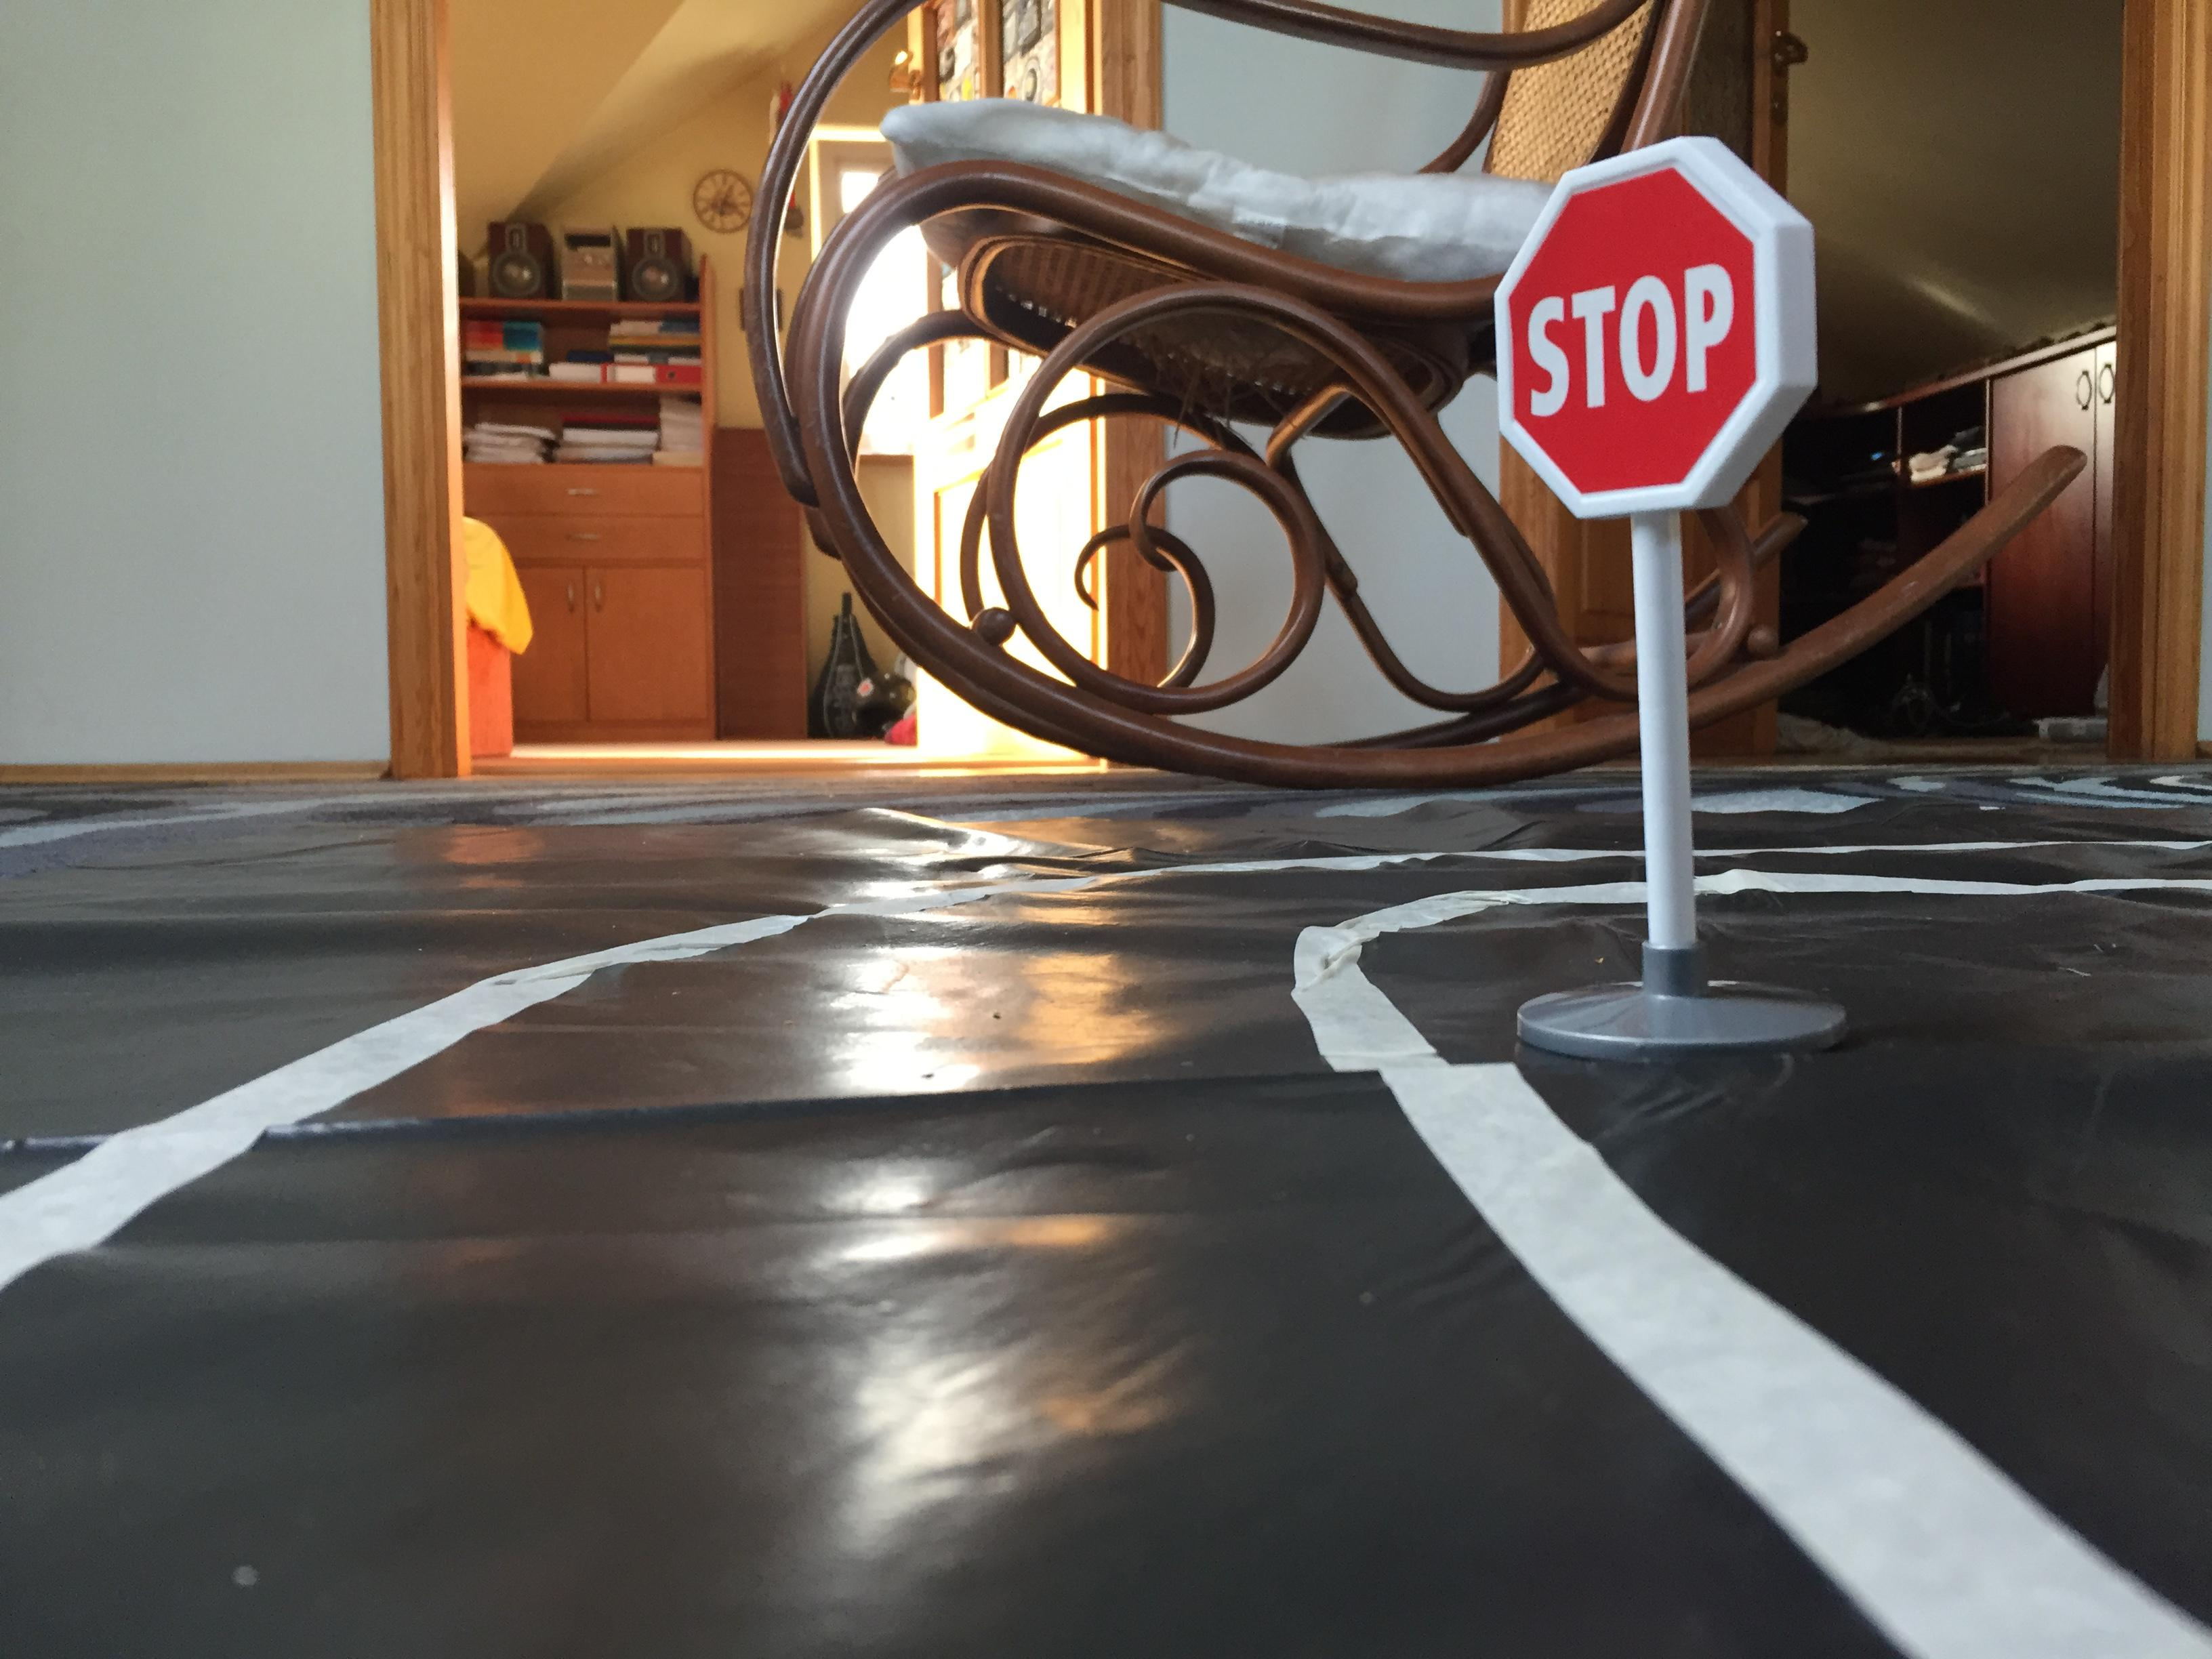stop: (1484, 122, 1838, 540)
